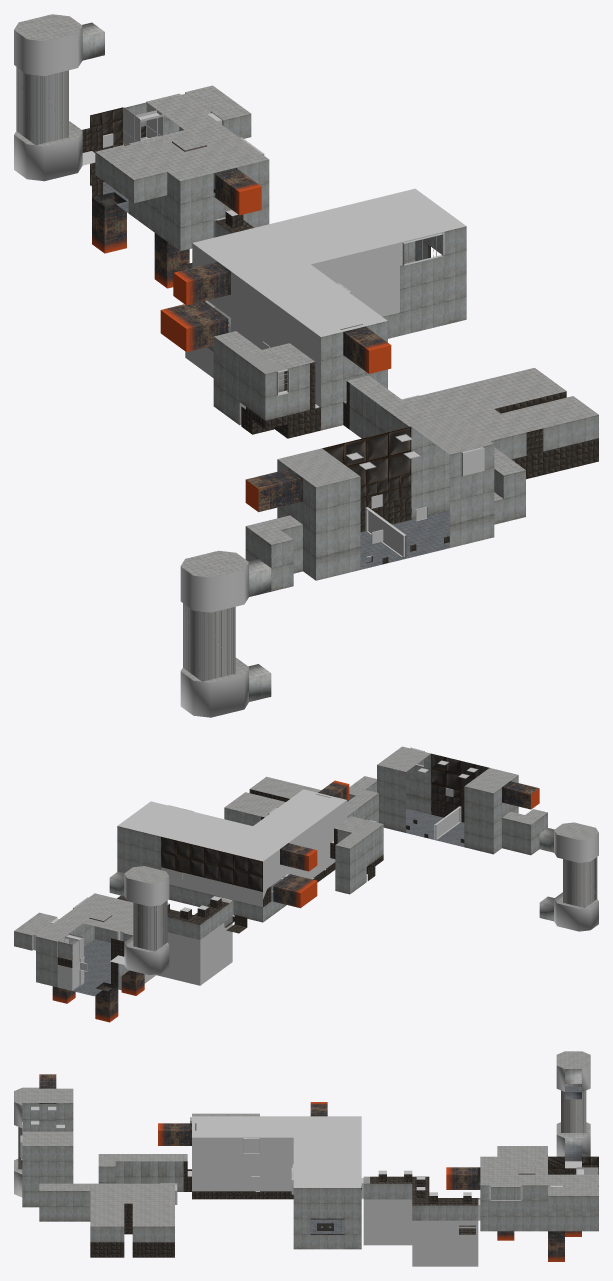
The model's file is test_chamber_10.fbx.
The picture shows the model from 3 angles, top to bottom: view 1: azimuth 30°, elevation 25°; view 2: azimuth 150°, elevation 25°; view 3: azimuth 270°, elevation 25°; orthographic projection. The views are drawn at different scales.
Visible parts, largest first — view 1: Room006, Room008, Room002, Room004, Elevator001, Elevator_Exit, Room002_Floor, Room005, Room001, Room003, Room007; view 2: Room006, Room002, Room008, Room007, Elevator001, Elevator_Exit, Room004, Room001, Room002_Floor, Room008_Floor, Room005; view 3: Room006, Room008, Room007, Room004, Room002, Elevator_Exit, Room005, Room003, Elevator001, Room006_Floor.
Boxes of the visible parts, left/top/right/bottom form: Room006: left=160, top=188, right=466, bottom=438; Room008: left=82, top=85, right=269, bottom=288; Room002: left=245, top=415, right=494, bottom=580; Room004: left=402, top=368, right=598, bottom=479; Elevator001: left=180, top=550, right=271, bottom=717; Elevator_Exit: left=14, top=14, right=104, bottom=181; Room002_Floor: left=360, top=507, right=449, bottom=569; Room005: left=343, top=375, right=448, bottom=438; Room001: left=245, top=515, right=302, bottom=591; Room003: left=494, top=447, right=525, bottom=524; Room007: left=185, top=210, right=253, bottom=377; Room006: left=117, top=780, right=383, bottom=922; Room002: left=377, top=746, right=539, bottom=854; Room008: left=14, top=893, right=144, bottom=1022; Room007: left=118, top=896, right=247, bottom=990; Elevator001: left=539, top=822, right=598, bottom=931; Elevator_Exit: left=109, top=866, right=169, bottom=975; Room004: left=224, top=776, right=321, bottom=825; Room001: left=502, top=809, right=547, bottom=855; Room002_Floor: left=406, top=806, right=464, bottom=846; Room008_Floor: left=73, top=939, right=119, bottom=996; Room005: left=347, top=787, right=378, bottom=822; Room006: left=158, top=1102, right=361, bottom=1249; Room008: left=446, top=1146, right=598, bottom=1261; Room007: left=361, top=1170, right=480, bottom=1266; Room004: left=90, top=1183, right=177, bottom=1257; Room002: left=20, top=1074, right=73, bottom=1207; Elevator_Exit: left=556, top=1051, right=590, bottom=1161; Room005: left=98, top=1154, right=191, bottom=1191; Room003: left=39, top=1183, right=90, bottom=1221; Elevator001: left=14, top=1087, right=39, bottom=1197; Room006_Floor: left=310, top=1219, right=344, bottom=1233.
Size of the model in its own units: 5273 by 3292 by 8412.
